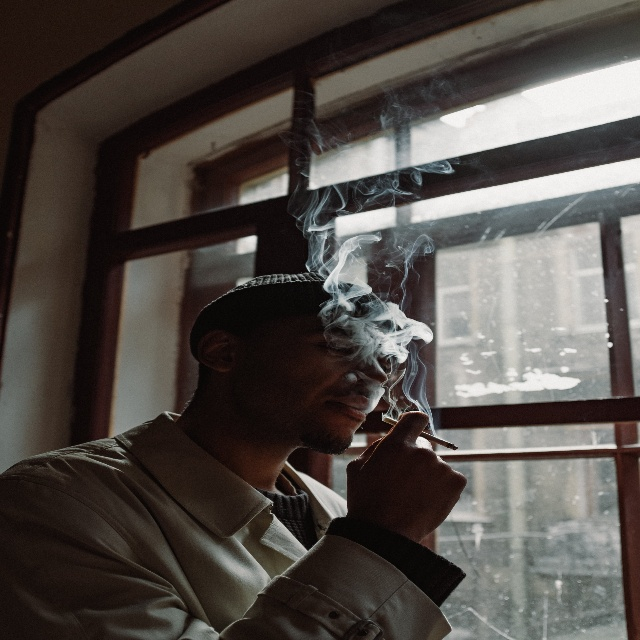Sin_guantes: (345, 408, 466, 536)
